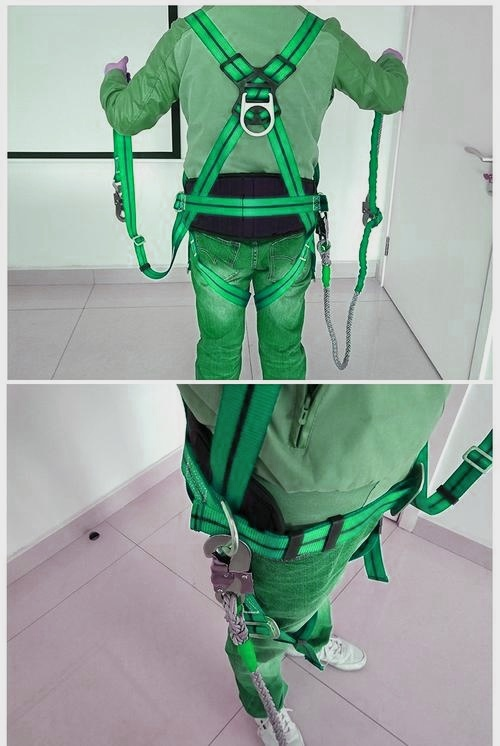safety belt: (150, 18, 367, 309), (163, 402, 449, 570)
